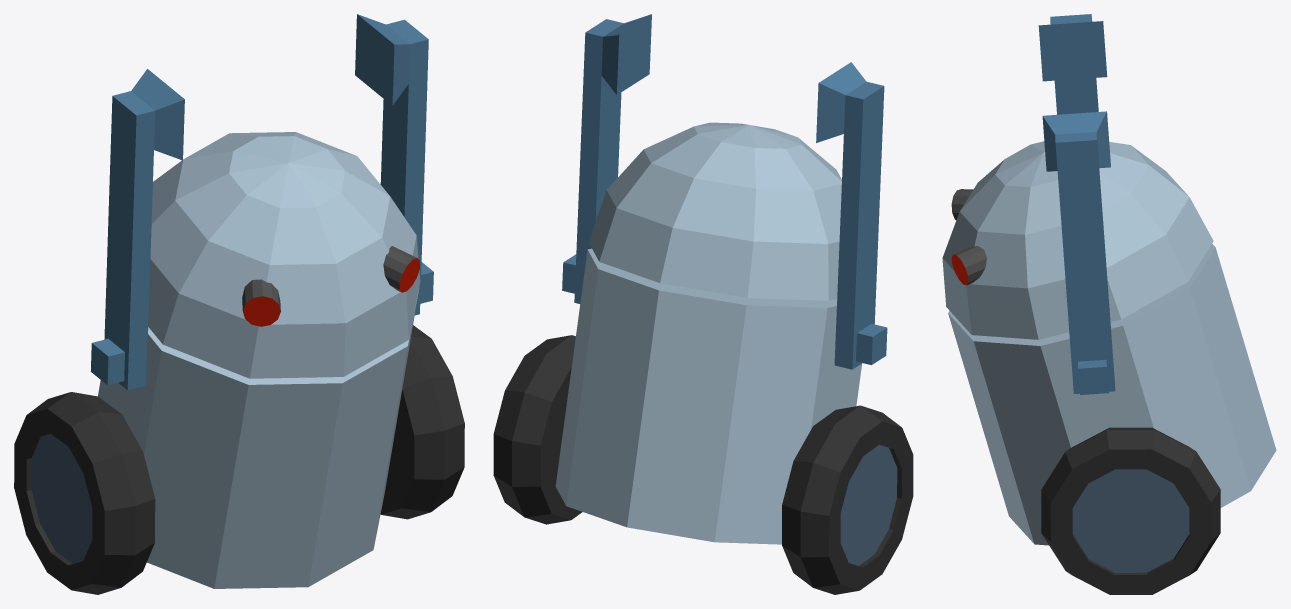
The model's file is robot.fbx.
The picture shows the model from 3 angles, left to right: view 1: azimuth 30°, elevation 25°; view 2: azimuth 150°, elevation 25°; view 3: azimuth 270°, elevation 25°; orthographic projection. The views are drawn at different scales.
Parts seen in each view (by area): view 1: Body, Tire, hand, Eye; view 2: Body, Tire, hand; view 3: Body, Tire, hand, Eye.
Part boxes in pixels (x1,y1,x2,y2): Body: [98, 132, 420, 588]; Tire: [14, 325, 464, 594]; hand: [90, 14, 433, 390]; Eye: [242, 246, 419, 326]; Body: [555, 122, 861, 544]; Tire: [493, 335, 913, 594]; hand: [562, 14, 887, 369]; Body: [942, 141, 1276, 545]; Tire: [1041, 427, 1220, 594]; hand: [1038, 14, 1115, 394]; Eye: [951, 189, 986, 285].
Size of the model in its own units: 266 by 366 by 241.
